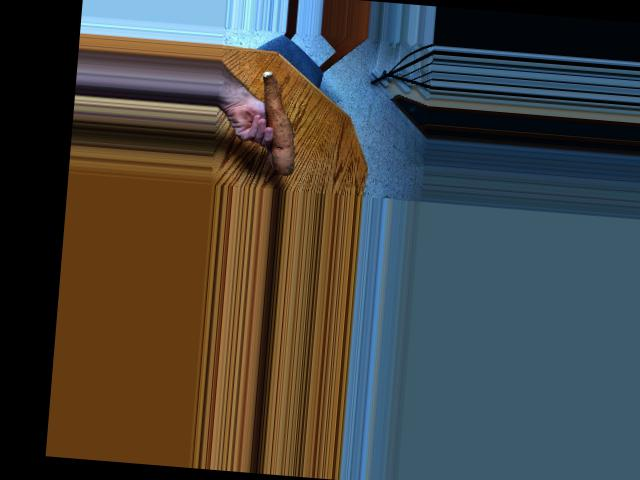sweet_potato: (250, 69, 305, 174)
